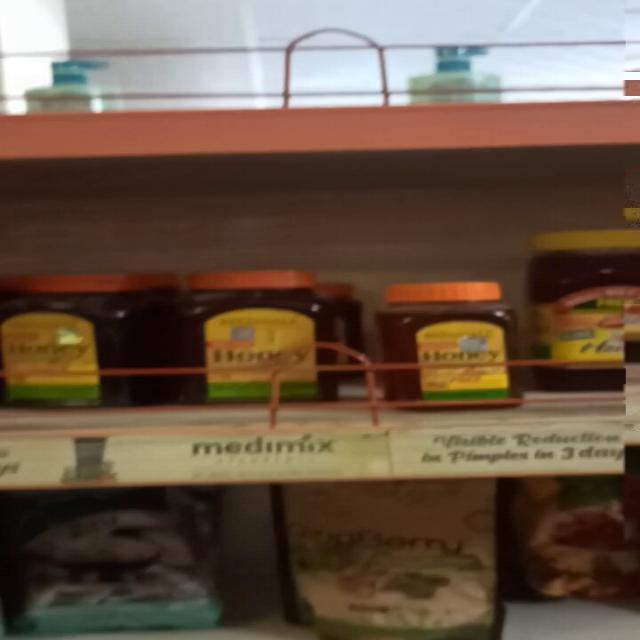Patanjali Honey: (181, 268, 338, 400), (368, 282, 516, 412)
